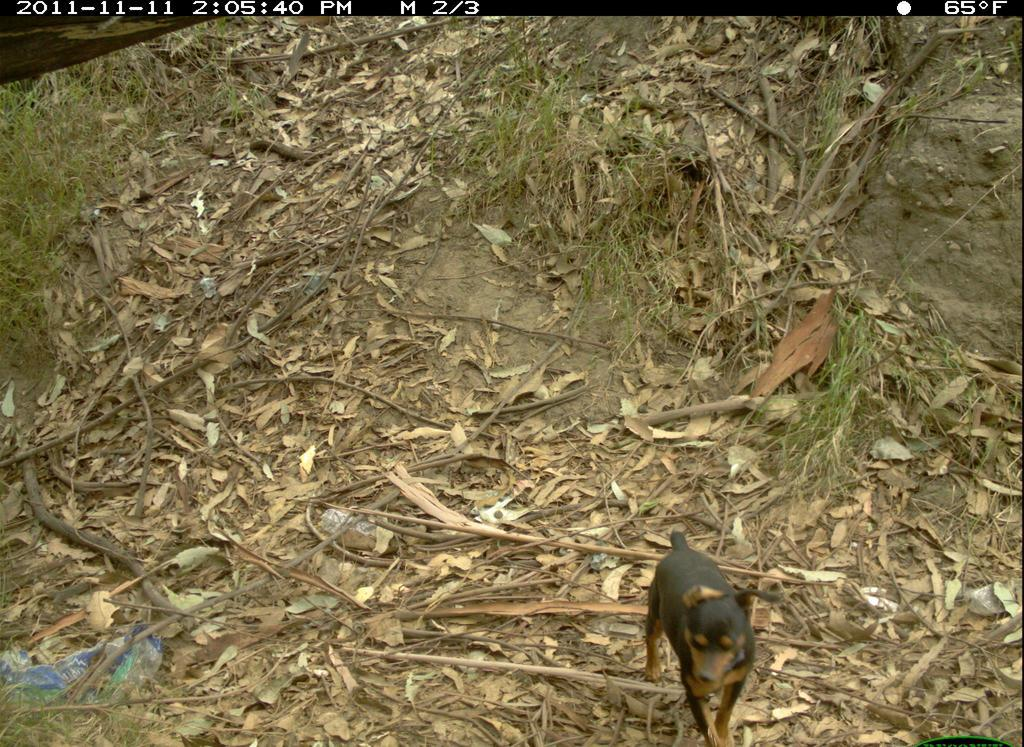dog: (635, 507, 763, 747)
